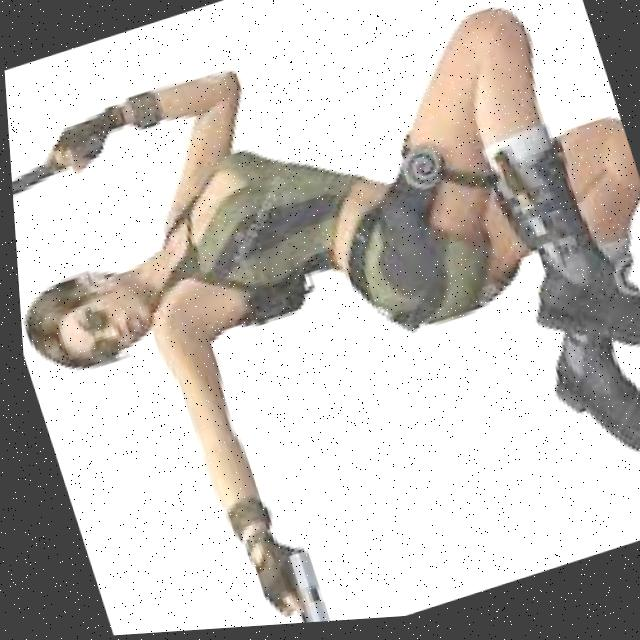pistol: (270, 547, 324, 627), (8, 159, 60, 207)
